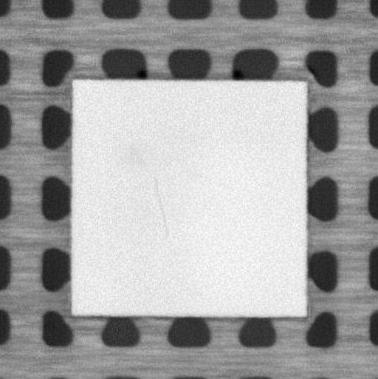DIE_CRACK: (151, 177, 169, 238)
